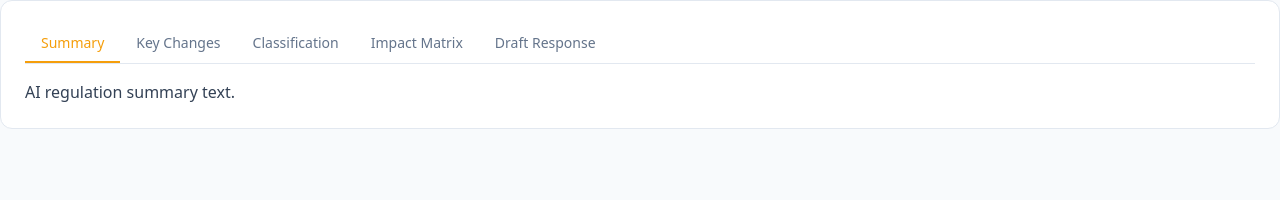
EnrichmentPanel › switches to draft response tab
Click the tab "Draft Response": (545, 44) x1=479 y1=25 x2=612 y2=63
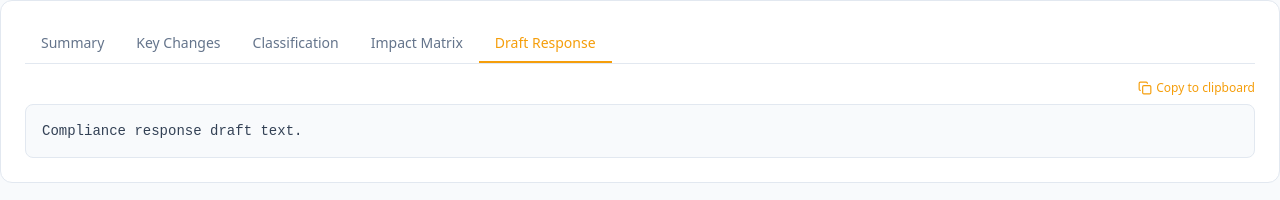
expect the text "Compliance response draft text." is shown: met, box x1=25 y1=104 x2=1255 y2=158
expect the button "Copy to clipboard" is shown: met, box x1=1138 y1=80 x2=1255 y2=96
